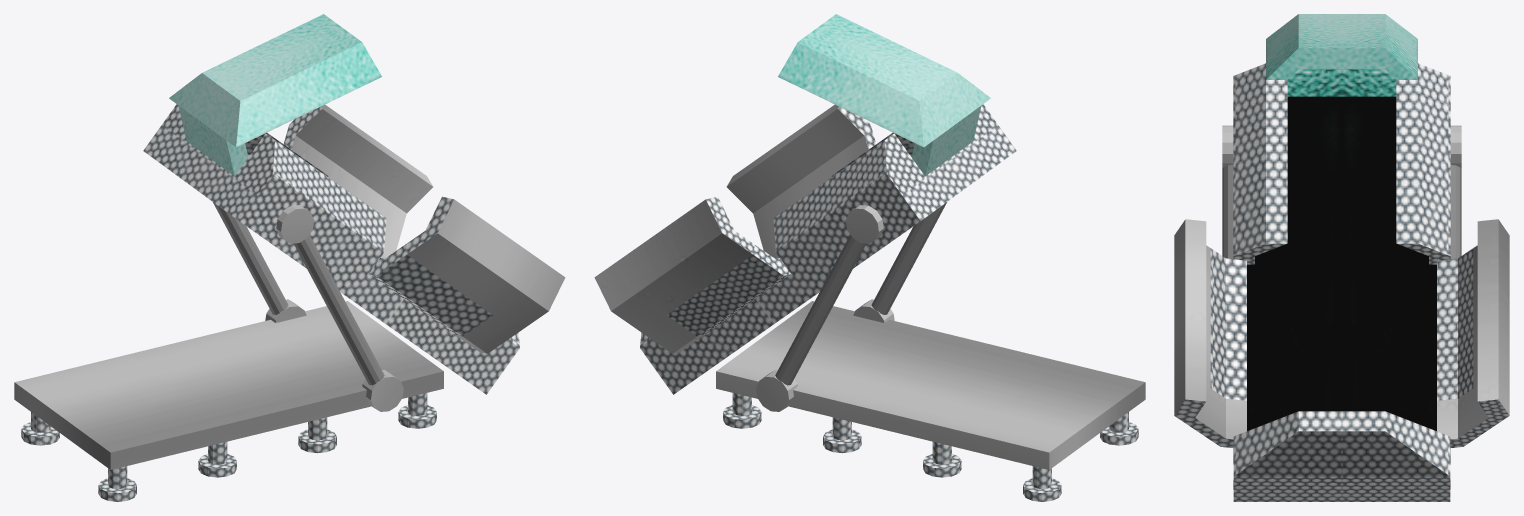
Rendered from criocamera.fbx.
The picture shows the model from 3 angles, left to right: view 1: azimuth 30°, elevation 25°; view 2: azimuth 150°, elevation 25°; view 3: azimuth 270°, elevation 25°; orthographic projection. The views are drawn at different scales.
Visible parts, largest first — view 1: Circle; view 2: Circle; view 3: Circle.
Boxes of the visible parts, bbox=[...] form: Circle: bbox=[14, 14, 565, 501]; Circle: bbox=[594, 14, 1145, 501]; Circle: bbox=[1174, 14, 1509, 501].
Size of the model in its own units: 154 by 214 by 260.
1 material, 1 textured.
